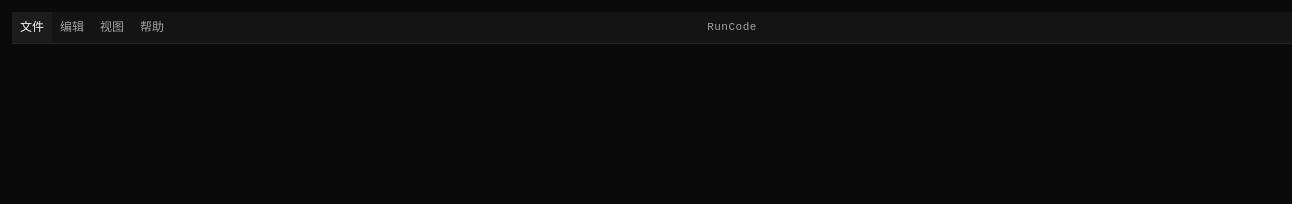
Test: TitleBar › 帮助菜单渲染切换开发人员工具、关于 RunCode、设置
Step 1. Click the button "帮助" → (152, 28), box [132,12,172,43]
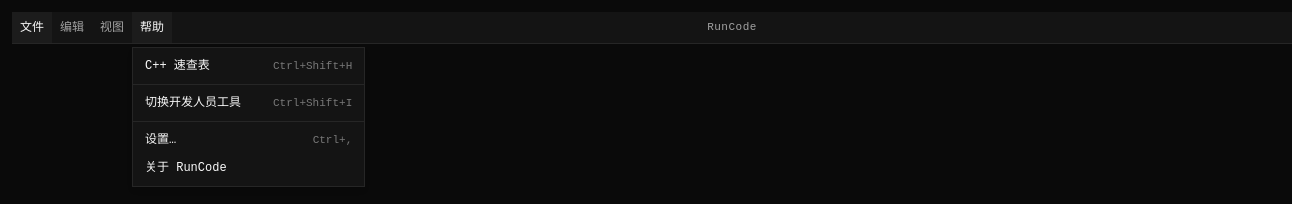
Now the menu item "切换开发人员工具 Ctrl+Shift+I" is shown, box [145,96,352,110]
Now the menu item "关于 RunCode" is shown, box [145,161,227,175]
Now the menu item "设置… Ctrl+," is shown, box [145,133,352,147]
